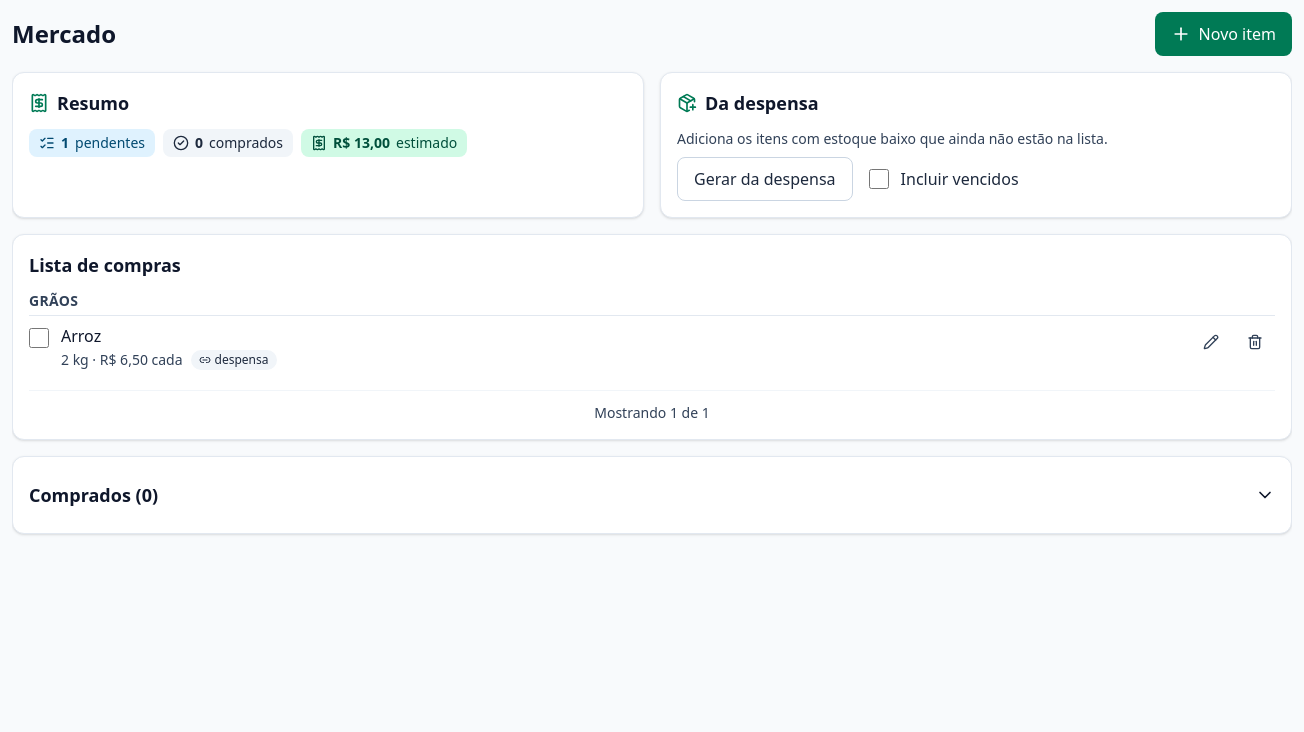
Scenario: ShoppingPage › buys an item and tells when the pantry was restocked
Expected: the element "Grãos" is shown, [29,291,1275,378]
Expected: the text "R$ 13,00" is shown, [333,133,390,153]
Click the checkbox named "Comprado: Arroz": [39, 338] box [29,328,49,348]
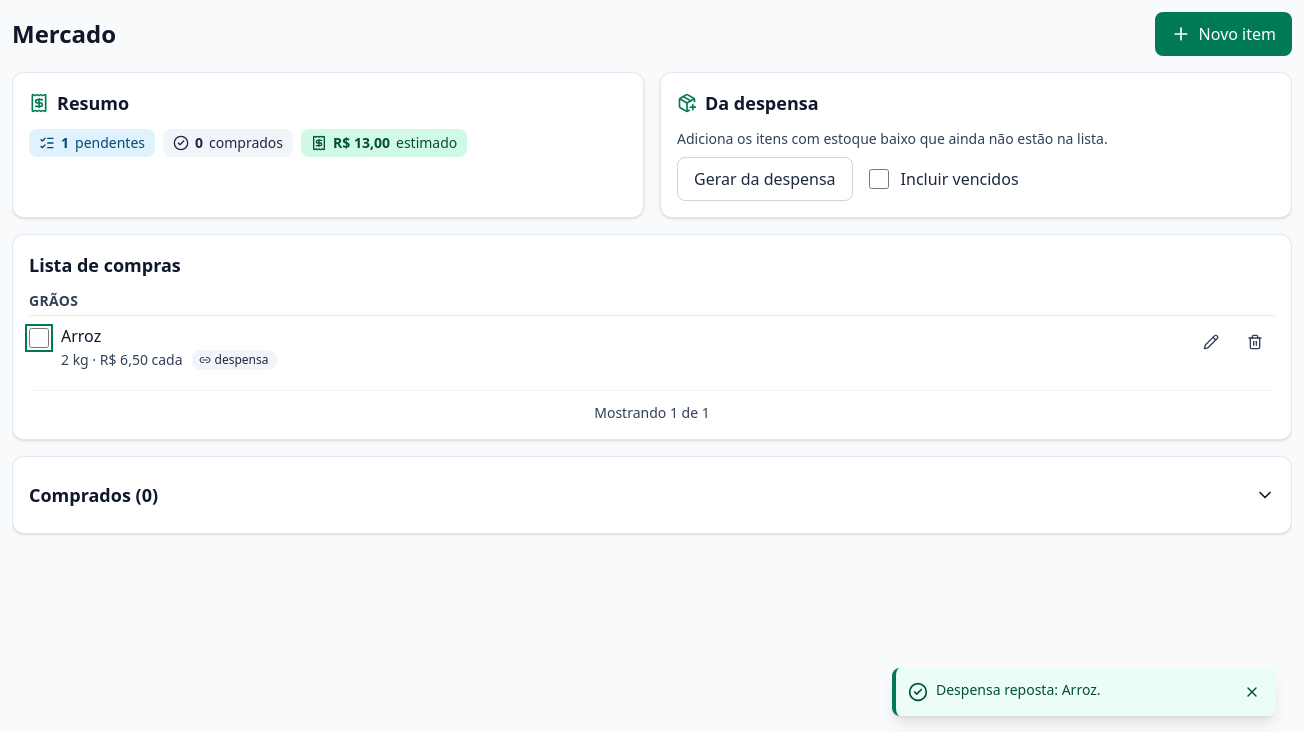
Expected: the text "Despensa reposta: Arroz." is shown, [936,680,1101,699]
